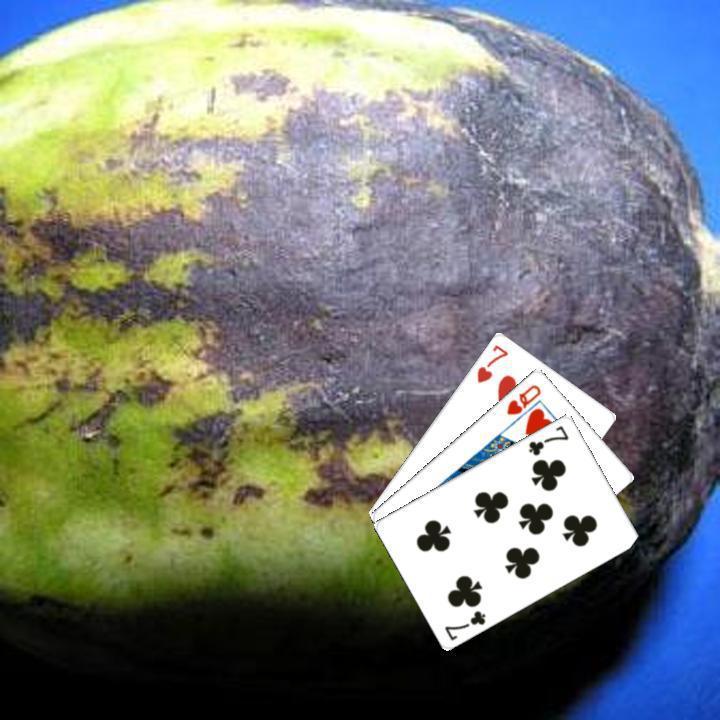7: (440, 606, 488, 642), (472, 340, 510, 385), (524, 421, 571, 457)
Q: (502, 380, 543, 417)
